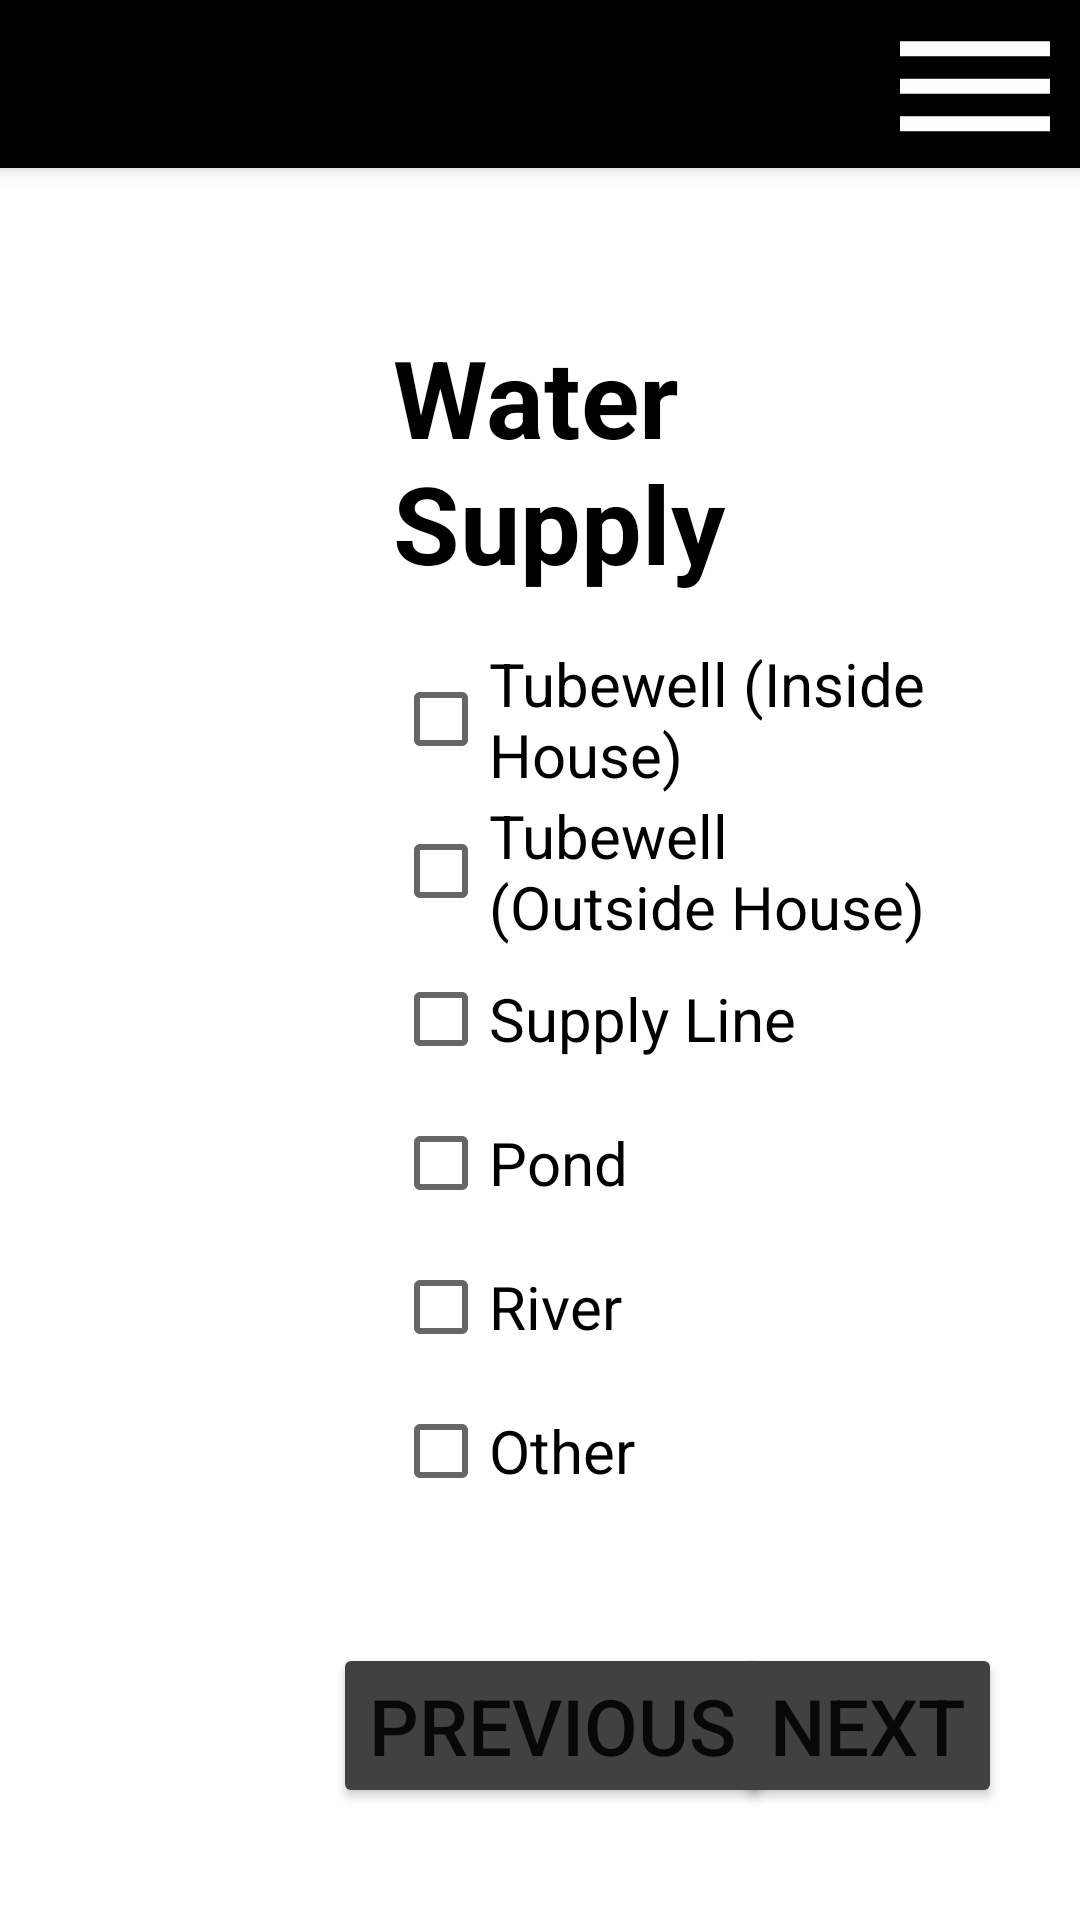

Where icons sit on this 1080px×1920px app screen, as (x1, y1, x2, y2):
dehaze: (900, 41, 1050, 132)
